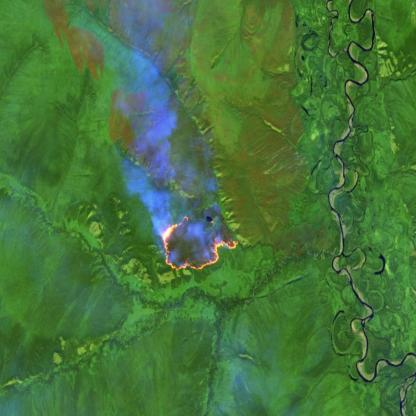fire: (158, 212, 242, 275)
